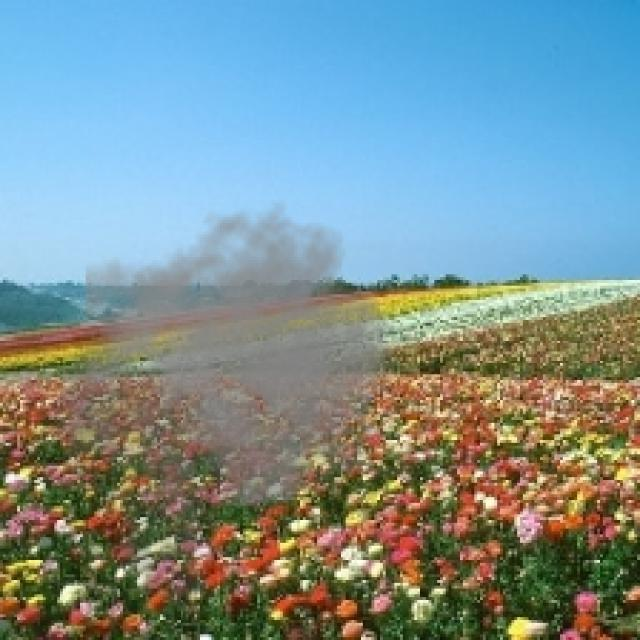Smoke: (40, 200, 417, 617)
